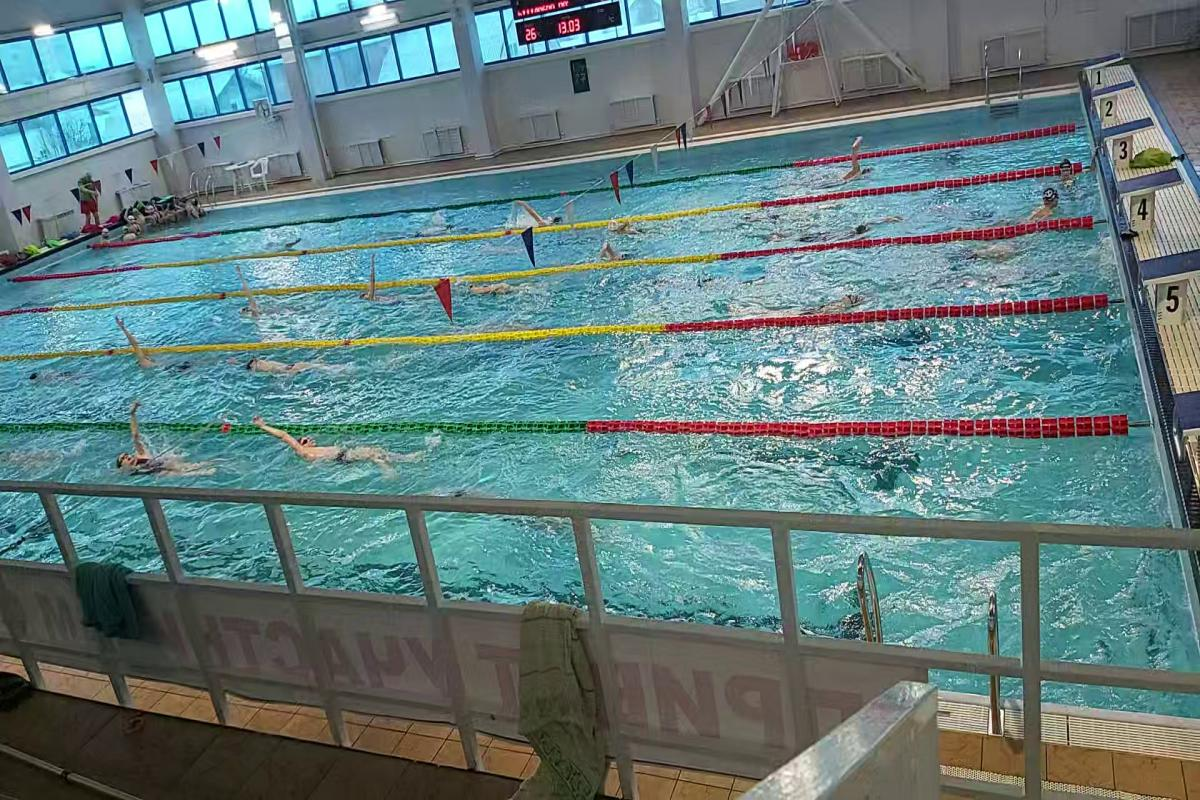swimmer: (261, 433, 431, 477), (106, 438, 224, 481), (238, 353, 359, 382), (724, 290, 868, 312), (773, 212, 908, 231), (1009, 186, 1068, 219), (507, 198, 572, 224), (131, 352, 201, 376), (26, 364, 94, 388), (466, 282, 540, 303), (238, 297, 304, 319), (355, 290, 425, 308), (598, 243, 648, 260)
